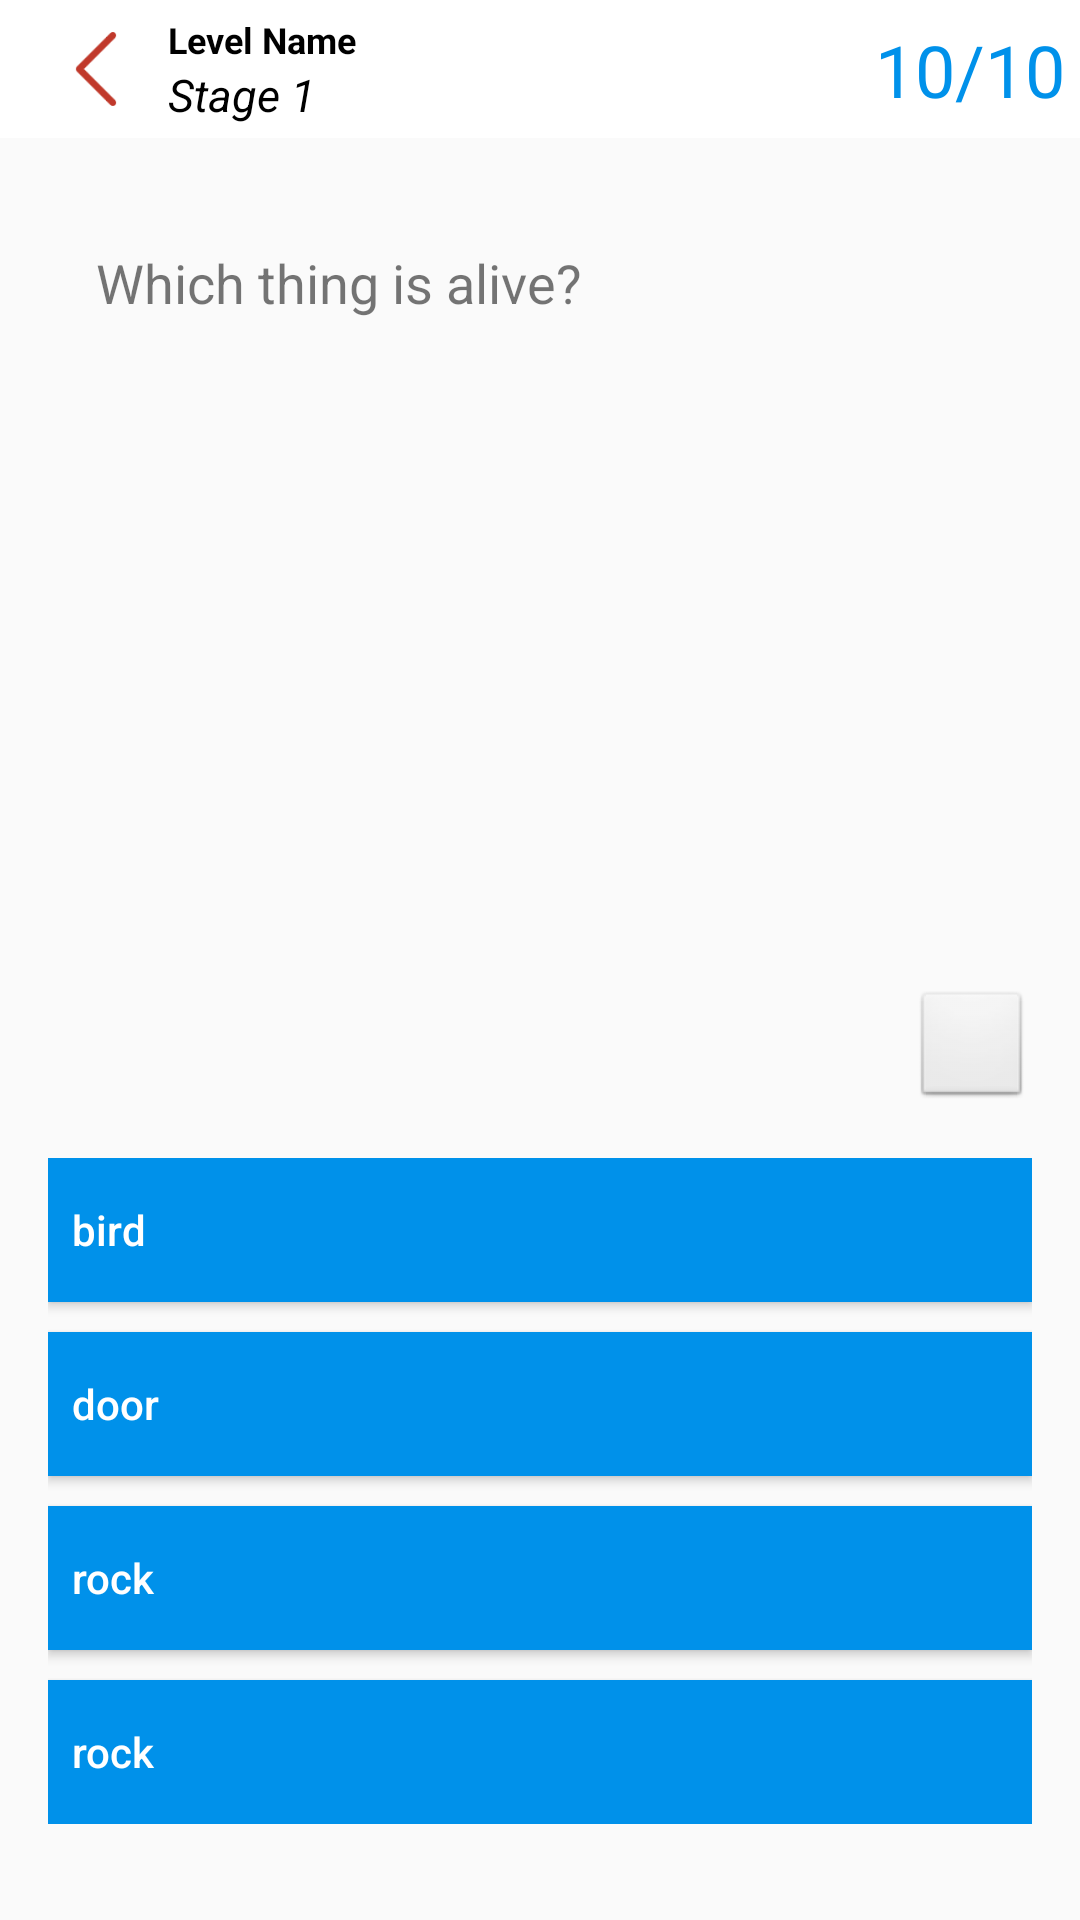

Screen size 1080x1920. Icon name, then its box in pixels as (x1, y1, x2, y2):
back: (76, 32, 116, 106)
